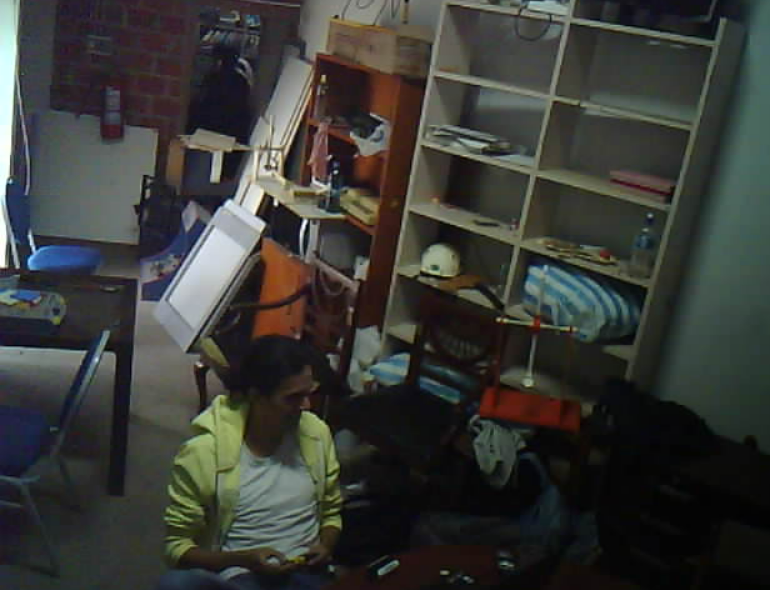person: (148, 311, 340, 590), (181, 18, 275, 158)
